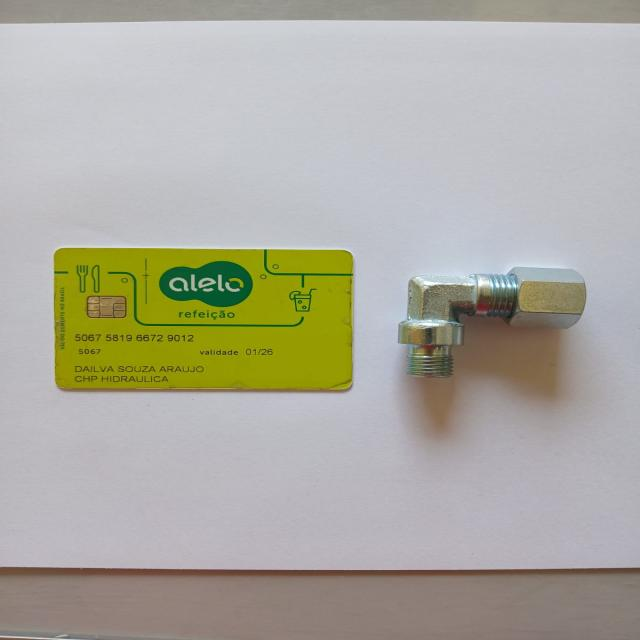cartao: (56, 248, 353, 390)
rosca_externa: (399, 266, 589, 377)
